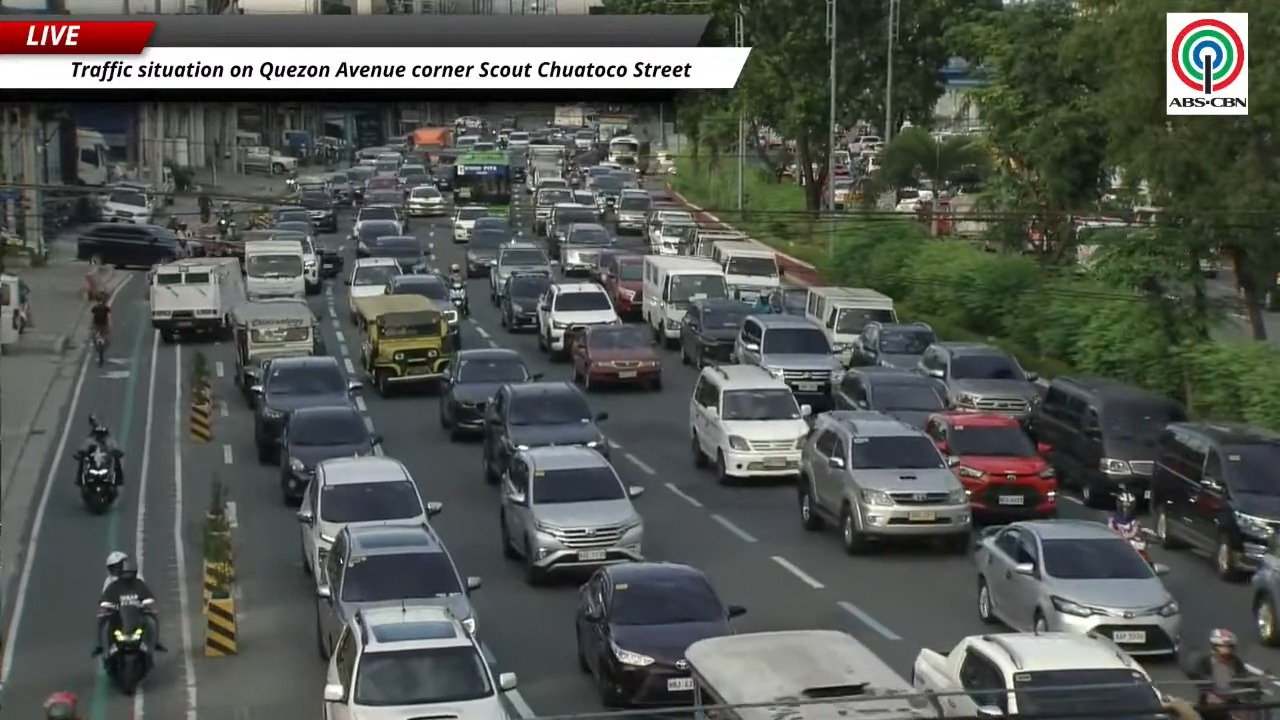bus: (669, 630, 942, 719), (452, 151, 512, 214)
car: (974, 519, 1181, 655), (797, 410, 971, 554), (575, 562, 745, 706), (323, 602, 516, 719), (316, 522, 480, 657), (913, 632, 1167, 717), (1027, 376, 1187, 506), (1151, 423, 1279, 580), (500, 446, 643, 584), (296, 456, 442, 576), (689, 365, 810, 484), (924, 411, 1056, 519), (482, 381, 609, 483), (250, 356, 361, 462), (731, 314, 842, 410), (279, 402, 380, 503), (919, 342, 1039, 419), (439, 348, 540, 439), (833, 366, 946, 427), (538, 282, 620, 359), (569, 325, 661, 391), (384, 272, 460, 347), (679, 298, 751, 367), (77, 223, 185, 267), (850, 322, 936, 369), (489, 242, 551, 306), (344, 257, 403, 323), (270, 221, 323, 294), (1250, 533, 1279, 646), (546, 198, 599, 259), (500, 272, 551, 332), (600, 251, 643, 318), (560, 222, 612, 276), (366, 235, 427, 272), (465, 228, 509, 278), (350, 218, 402, 258), (101, 187, 155, 224), (362, 190, 408, 233), (534, 187, 573, 236), (589, 247, 633, 285), (355, 202, 406, 233), (616, 190, 651, 234), (300, 192, 337, 232), (451, 205, 489, 242), (406, 185, 446, 216), (345, 165, 373, 205), (400, 172, 431, 203), (327, 171, 353, 206), (271, 205, 312, 225), (365, 174, 397, 198), (472, 215, 511, 232), (397, 163, 427, 184)
motorcycle: (100, 599, 153, 695), (80, 449, 117, 514), (1199, 685, 1269, 719), (1129, 536, 1153, 564), (450, 281, 468, 315), (93, 332, 106, 367), (217, 215, 233, 236), (218, 217, 234, 238), (285, 177, 297, 191)
truck: (149, 257, 246, 341), (44, 121, 113, 186), (244, 239, 304, 300), (240, 146, 297, 174), (597, 113, 632, 140), (553, 105, 593, 128)
